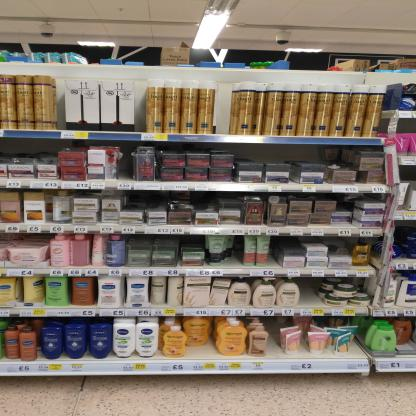Void: (241, 145, 317, 164), (129, 192, 160, 206), (301, 279, 316, 305), (190, 346, 213, 357), (182, 237, 204, 248), (280, 239, 300, 250)
